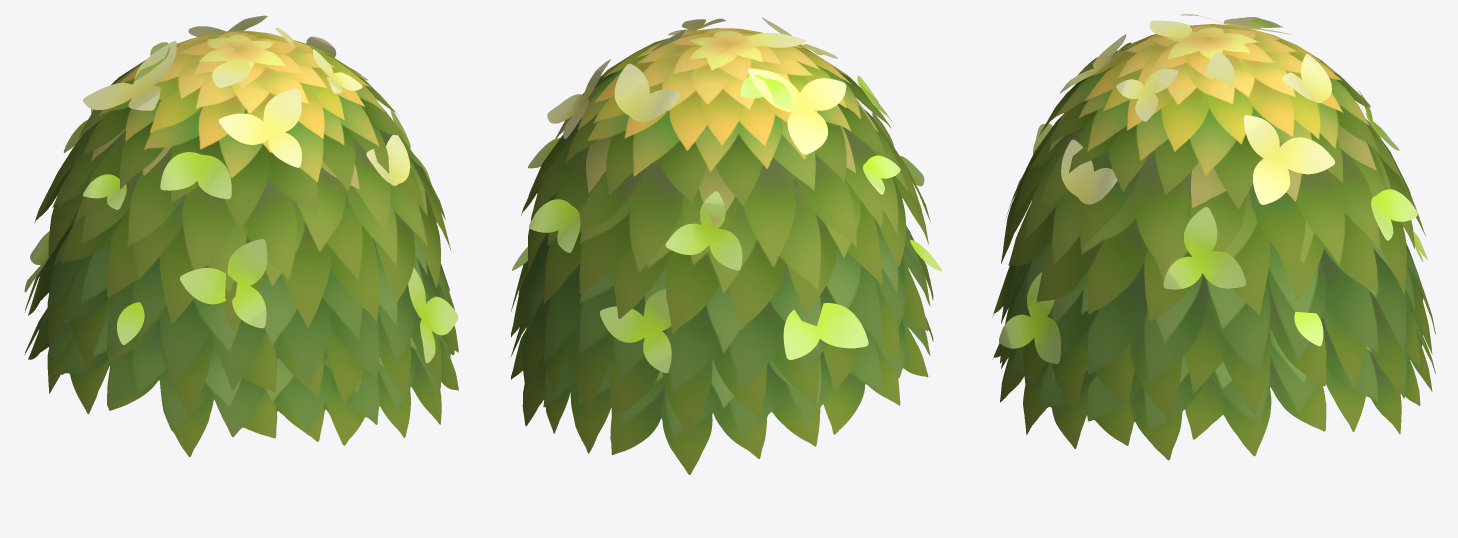
The model's file is Bush.fbx.
3 views of the same model, side by side, from view 1: azimuth 30°, elevation 25°; view 2: azimuth 150°, elevation 25°; view 3: azimuth 270°, elevation 25° (orthographic).
Visible parts, largest first — view 1: polySurface32; view 2: polySurface32; view 3: polySurface32.
Boxes of the visible parts, box(x1,y1,x2,y2) form: polySurface32: box(24, 15, 458, 456); polySurface32: box(510, 17, 942, 474); polySurface32: box(992, 14, 1435, 460).
Size of the model in its own units: 4.8 by 4.55 by 4.8.
